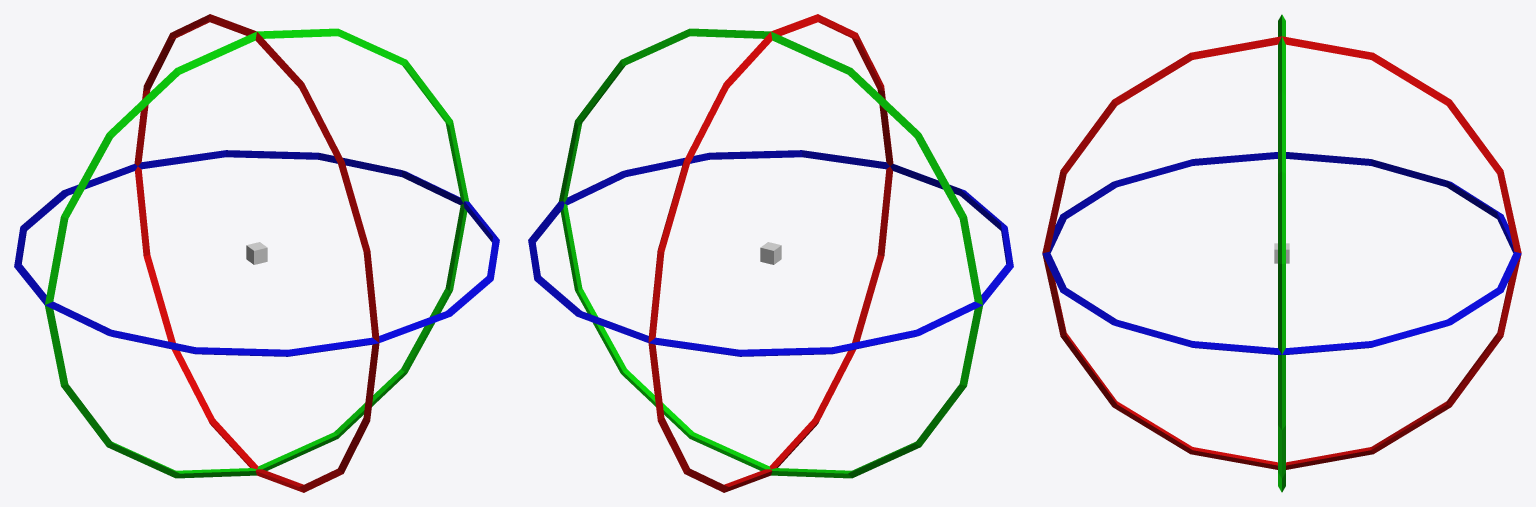
The model's file is rotate_gizmo.obj.
3 views of the same model, side by side, from view 1: azimuth 30°, elevation 25°; view 2: azimuth 150°, elevation 25°; view 3: azimuth 270°, elevation 25° (orthographic). The views are drawn at different scales.
Visible parts, largest first — view 1: Cylinder.002; view 2: Cylinder.002; view 3: Cylinder.002.
Part boxes in pixels (left/top/right/bottom): Cylinder.002: left=14, top=14, right=499, bottom=492; Cylinder.002: left=528, top=14, right=1013, bottom=492; Cylinder.002: left=1042, top=14, right=1521, bottom=492.
Size of the model in its own units: 2.04 by 2.04 by 2.04.
